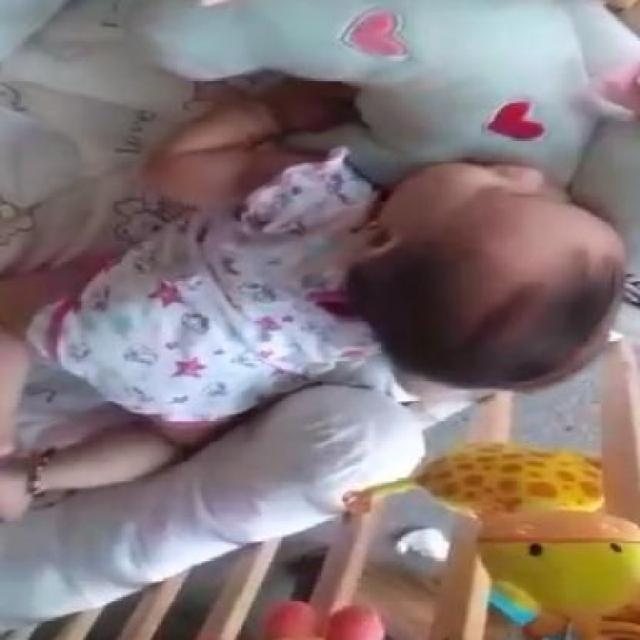baby: (1, 77, 626, 511)
